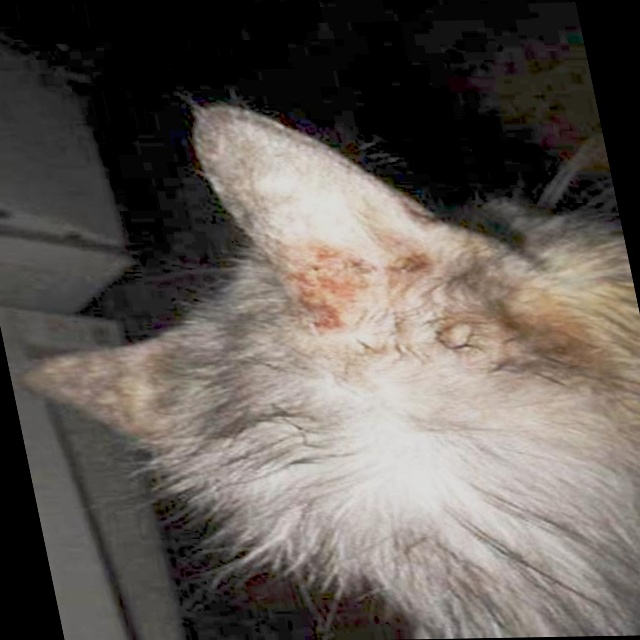ringworm: (284, 244, 449, 339)
